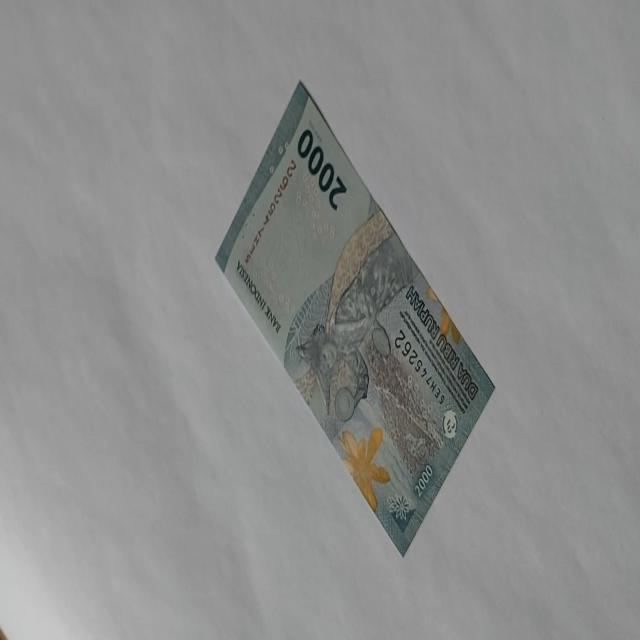dua ribu rupiah: (214, 79, 496, 558), (292, 208, 444, 498), (338, 424, 390, 513)
